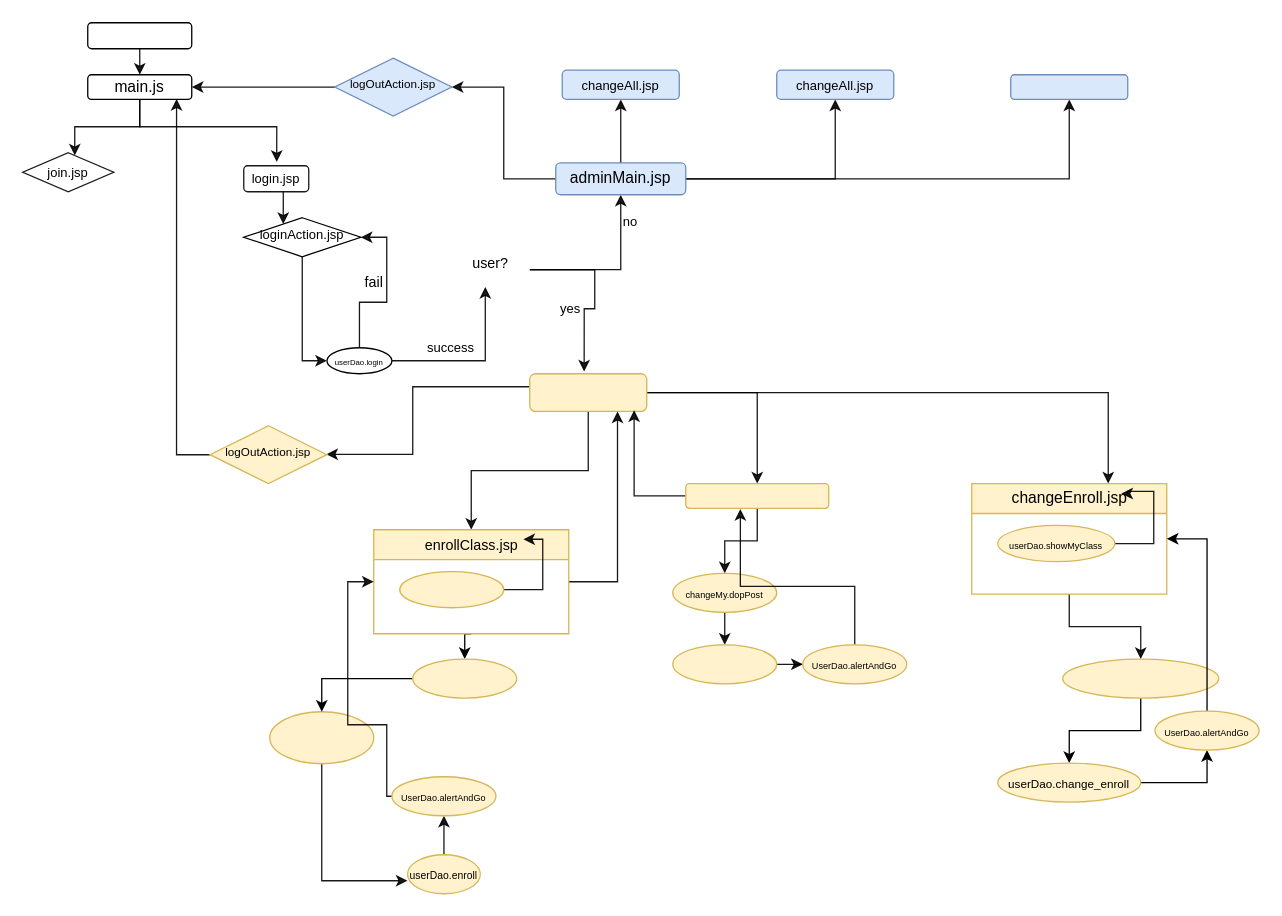
Some shapes in this 1282 by 916 pixel diagram are drawn without their labels. The centre of each missing label's shape, as x and y in pixels:
"changeEnroll.doPost" belongs at point (1140, 678).
"changeMy.jsp" belongs at point (756, 495).
"enrollClass.doPost" belongs at point (321, 737).
"index.jsp" belongs at point (139, 35).
"showAllUser.jsp" belongs at point (1068, 86).
"userDao.enrollClass" belongs at point (464, 678).
"userDao.showClass" belongs at point (451, 589).
"userDao.user_change" belongs at point (724, 664).
"userMain.jsp" belongs at point (587, 391).
